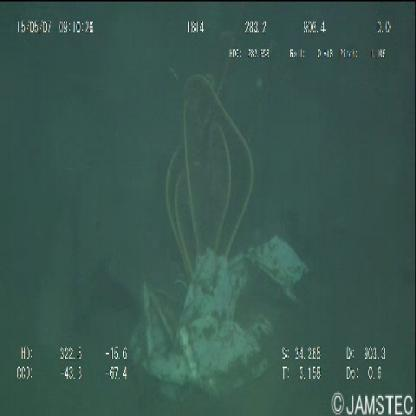Rác: (129, 234, 311, 399)
